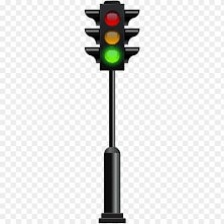semaforo: (98, 1, 124, 70)
